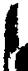Reed: (1, 3, 19, 71)
